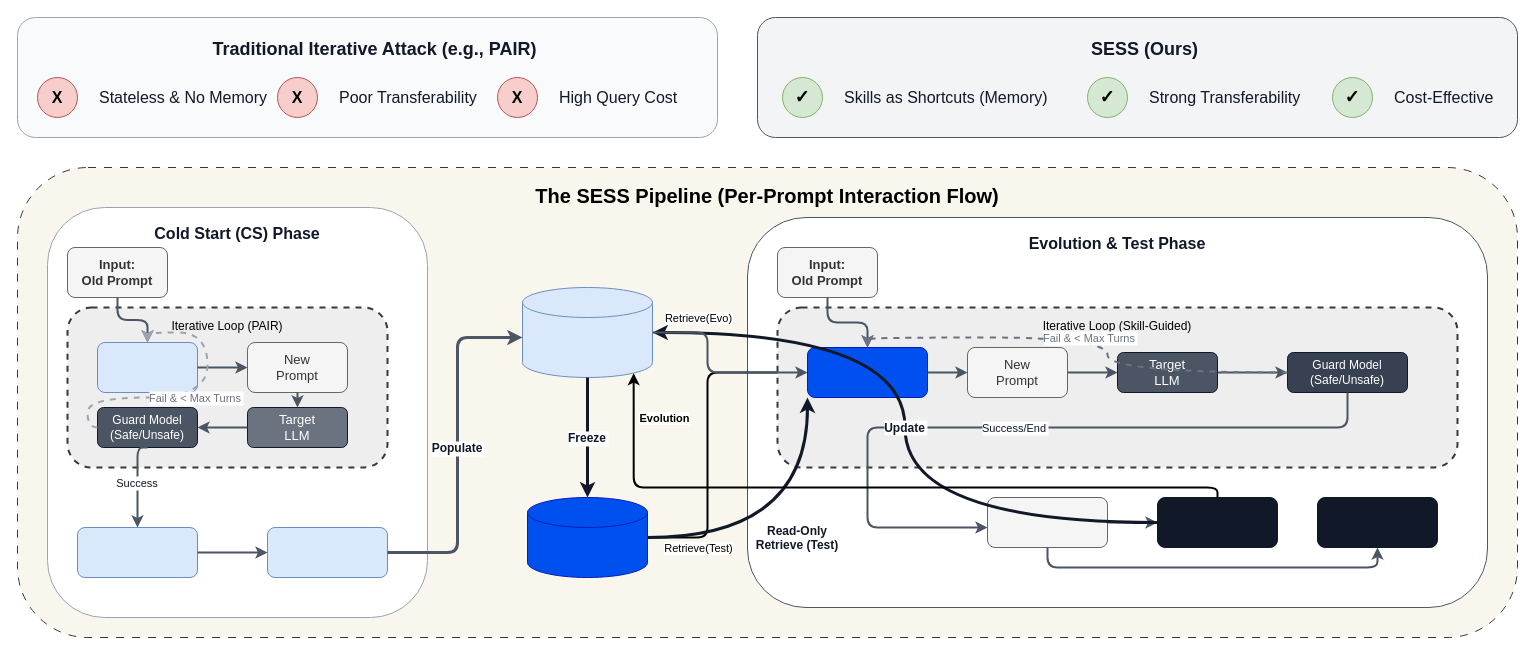
The diagram is 1535 pixels wide and 655 high, and some of its shapes have lost their labels. The shapes that lost their labels are listed below. From the top down, each one's centre as x and y in pixels, then its label:
pixel 587 332: Dynamic Skill Library
pixel 147 367: Template Rewrite
pixel 867 372: Skills-Augmented Rewrite
pixel 587 537: Frozen Skill Library (Test)
pixel 1047 522: Feedback & Statistics
pixel 1217 522: Evo: Update Skills
pixel 1377 522: Test: Final ASR Eval
pixel 137 552: Successful Trajectory
pixel 327 552: Extract Skills
